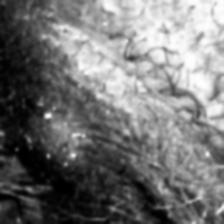Unclassified: (0, 144, 48, 222)
